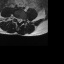CCS_normal: (18, 16, 19, 24)
LFS_normal: (21, 16, 23, 23)
LLS_normal: (19, 16, 21, 24)
RFS_stenosis: (15, 15, 16, 20)
RLS_normal: (16, 16, 18, 22)
